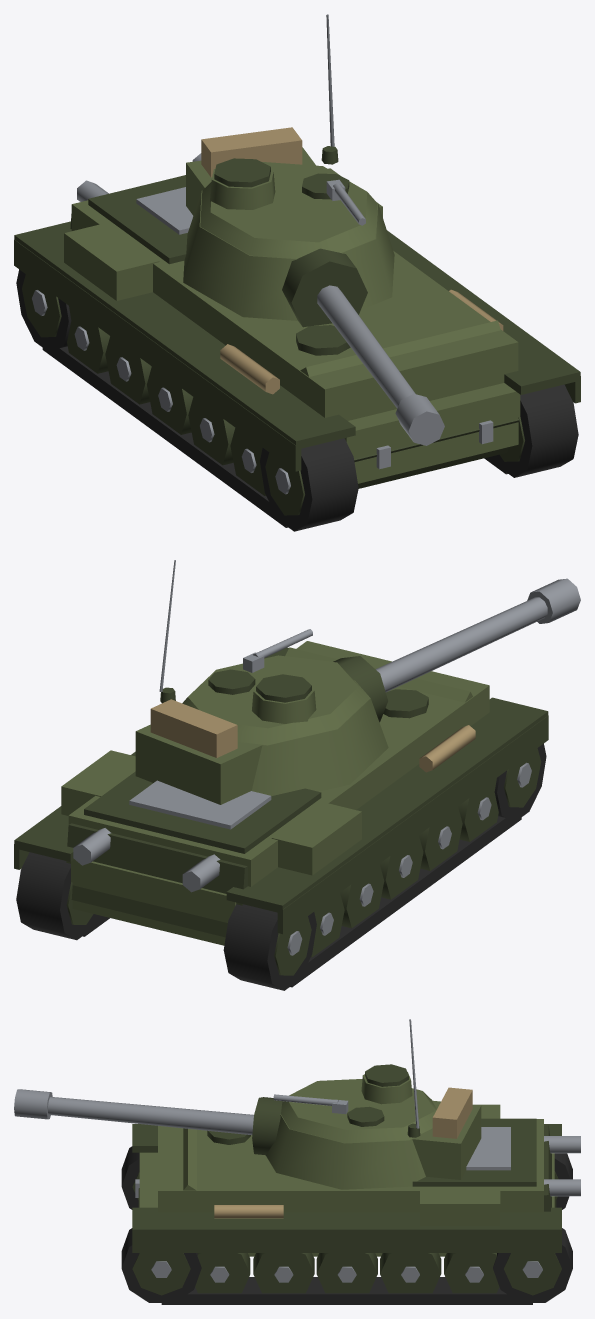
The model's file is tank.glb.
3 views of the same model, one above another, from view 1: azimuth 30°, elevation 25°; view 2: azimuth 150°, elevation 25°; view 3: azimuth 270°, elevation 25° (orthographic). The views are drawn at different scales.
Visible parts, largest first — view 1: hull_upper, fender_left, turret_roof, turret_body, hull_lower, fender_skirt_left, stow_box_left, track_end_front_left, track_end_front_right, fender_right, track_run_bottom_left, mantlet (+21 smaller); view 2: hull_upper, fender_left, turret_roof, turret_body, fender_skirt_left, rear_plate, engine_deck, hull_lower, turret_bustle, track_end_rear_left, gun_barrel, stow_box_left (+24 smaller); view 3: hull_upper, fender_skirt_right, fender_right, turret_body, turret_roof, track_run_bottom_right, gun_barrel, engine_deck, stow_box_right, turret_bustle, road_wheel_right_3, road_wheel_right_2 (+25 smaller).
Boxes of the visible parts, x1,y1,x2,y2 form: hull_upper: (71,200,518,420); fender_left: (14,221,355,449); turret_roof: (200,162,377,258); turret_body: (183,190,394,320); hull_lower: (344,383,520,483); fender_skirt_left: (14,239,301,471); stow_box_left: (64,223,159,300); track_end_front_left: (260,438,358,531); track_end_front_right: (493,384,578,477); fender_right: (387,230,580,394); track_run_bottom_left: (42,337,287,527); mantlet: (282,248,367,327); hull_upper: (68,641,489,886); fender_left: (226,697,548,913); turret_roof: (182,655,369,745); turret_body: (238,680,388,795); fender_skirt_left: (277,715,548,934); rear_plate: (66,823,247,937); engine_deck: (84,771,321,853); hull_lower: (71,859,236,945); turret_bustle: (135,724,262,804); track_end_rear_left: (223,904,316,990); gun_barrel: (375,597,547,692); stow_box_left: (271,801,361,875); hull_upper: (158,1119,543,1212); fender_skirt_right: (132,1233,561,1252); fender_right: (132,1207,561,1232); turret_body: (266,1099,435,1189); turret_roof: (281,1079,436,1143); track_run_bottom_right: (161,1277,532,1304); gun_barrel: (48,1097,253,1135); engine_deck: (412,1118,536,1186); stow_box_right: (420,1188,500,1226); turret_bustle: (412,1100,481,1179); road_wheel_right_3: (316,1253,377,1293); road_wheel_right_2: (380,1253,441,1293).
Bounding box in the file's own units: 3.45 × 3.98 × 7.79.
